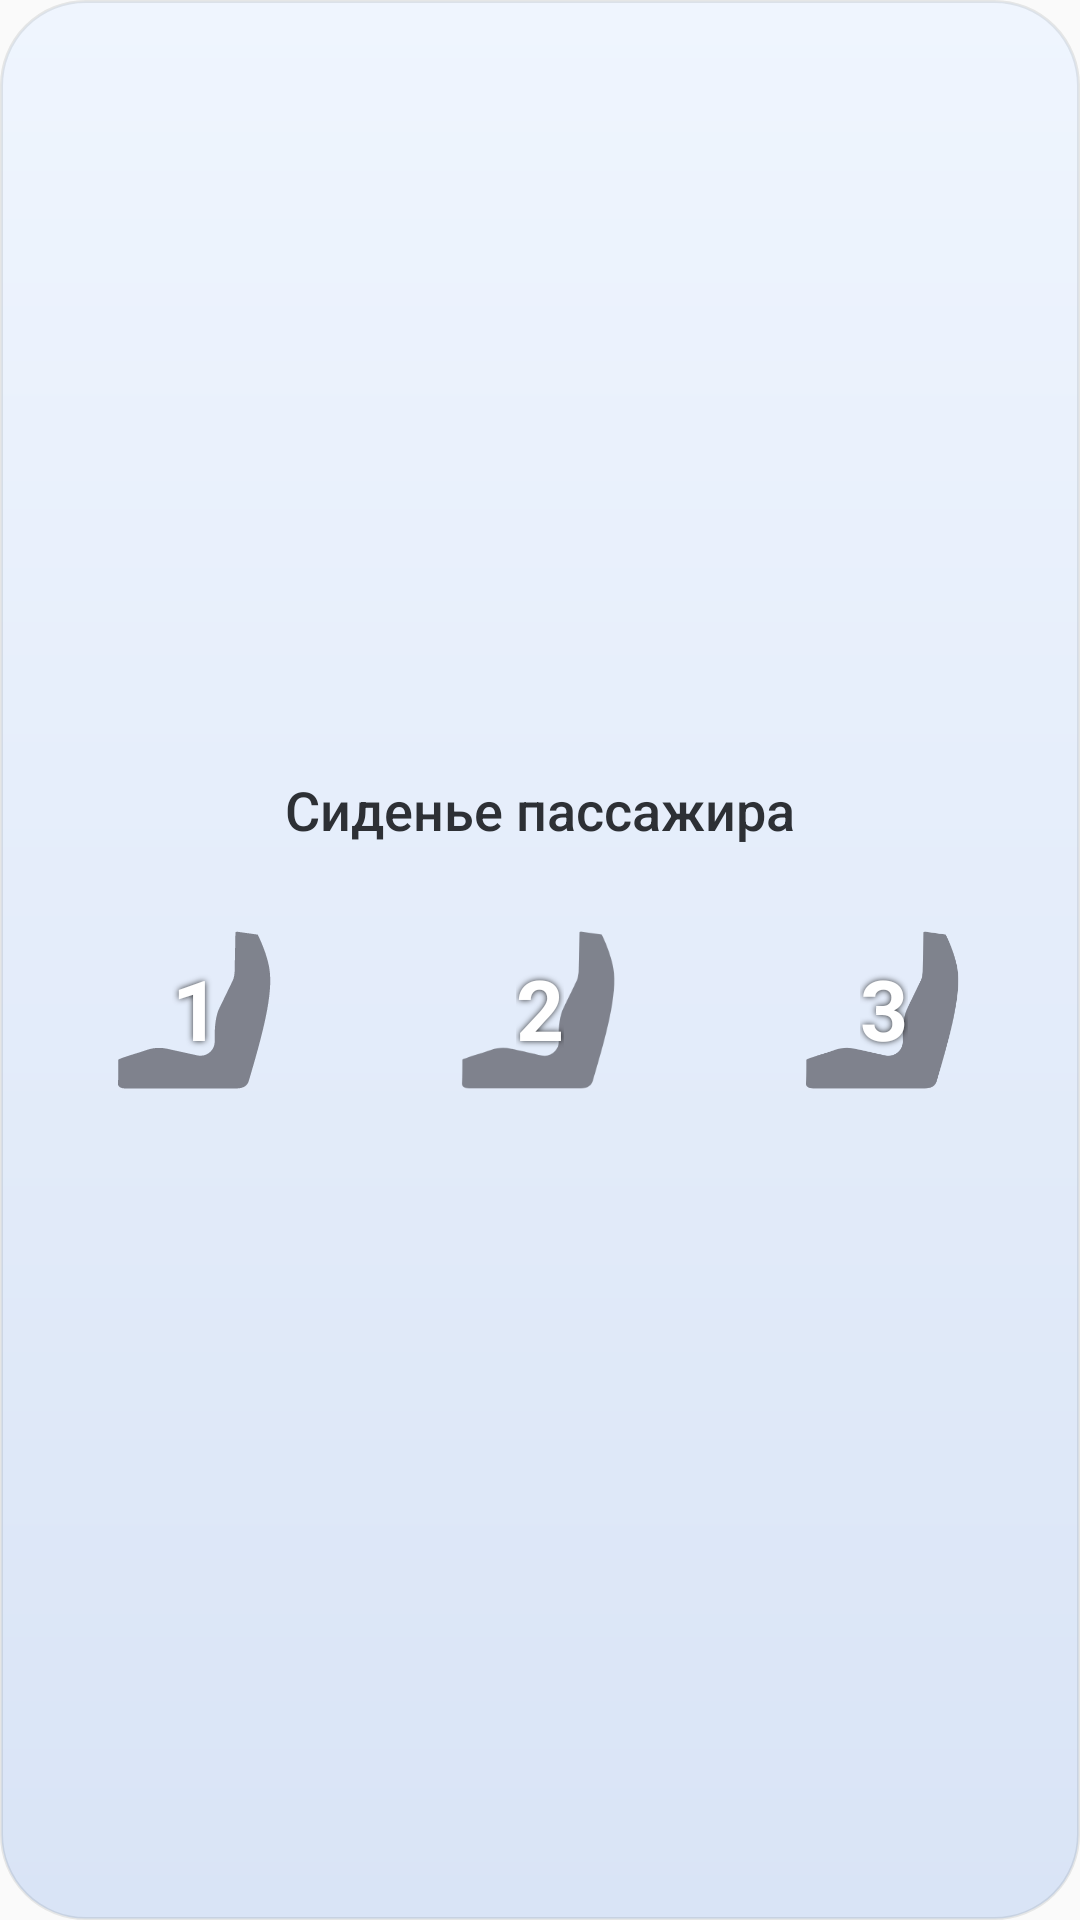

Screen size 1080*1920. Icon name, then its box in pixels as bbox=[x1, y1, x2, y2]:
Профиль 1: bbox=[118, 931, 271, 1089]
Профиль 2: bbox=[462, 931, 615, 1089]
Профиль 3: bbox=[806, 931, 958, 1089]
